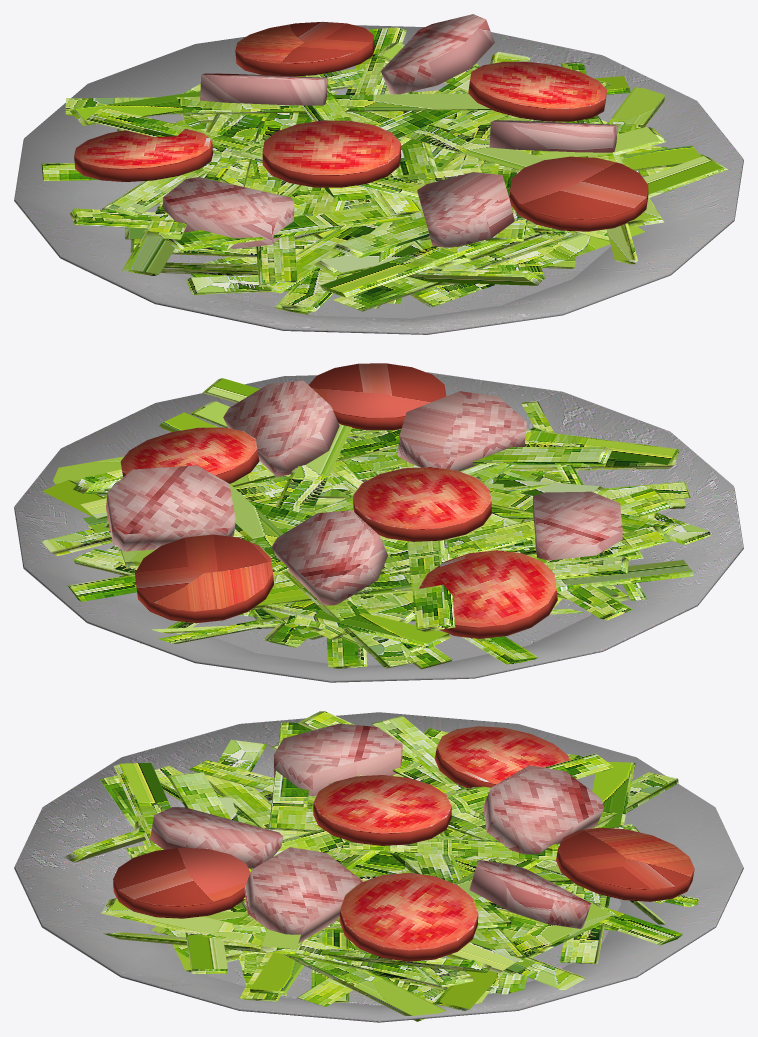
Rendered from Plato3.fbx.
The picture shows the model from 3 angles, top to bottom: view 1: azimuth 30°, elevation 25°; view 2: azimuth 150°, elevation 25°; view 3: azimuth 270°, elevation 25°; orthographic projection.
Visible parts, largest first — view 1: SM_SilentSalad; view 2: SM_SilentSalad; view 3: SM_SilentSalad.
Part boxes in pixels (bbox=[...]): SM_SilentSalad: bbox=[14, 14, 743, 334]; SM_SilentSalad: bbox=[14, 363, 743, 682]; SM_SilentSalad: bbox=[14, 711, 743, 1022].
Size of the model in its own units: 198 by 30.93 by 198.
Materials: 4 (4 with a texture image).
